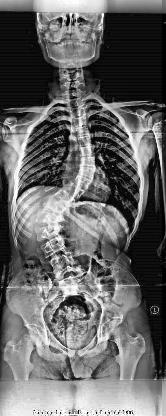Vertebrae: (49, 251, 80, 275), (40, 235, 68, 259), (34, 222, 62, 242), (34, 207, 64, 225), (62, 180, 88, 200), (52, 187, 78, 207), (40, 196, 66, 214), (70, 174, 94, 190), (76, 166, 98, 182), (67, 105, 89, 119), (74, 134, 96, 148), (77, 155, 99, 169), (72, 124, 92, 138), (64, 96, 88, 107), (76, 146, 98, 158), (72, 116, 88, 128)
